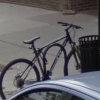Bicycle: (0, 9, 79, 99)
